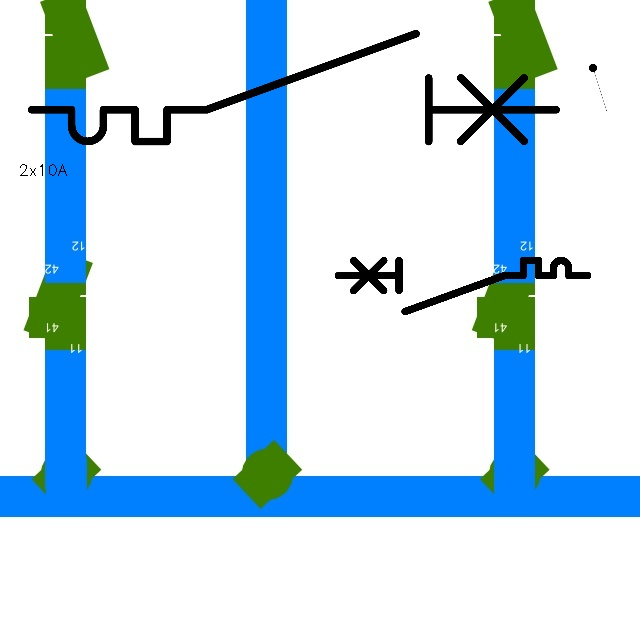interruptor_termomagnetico: (18, 20, 570, 155), (332, 254, 594, 318)
